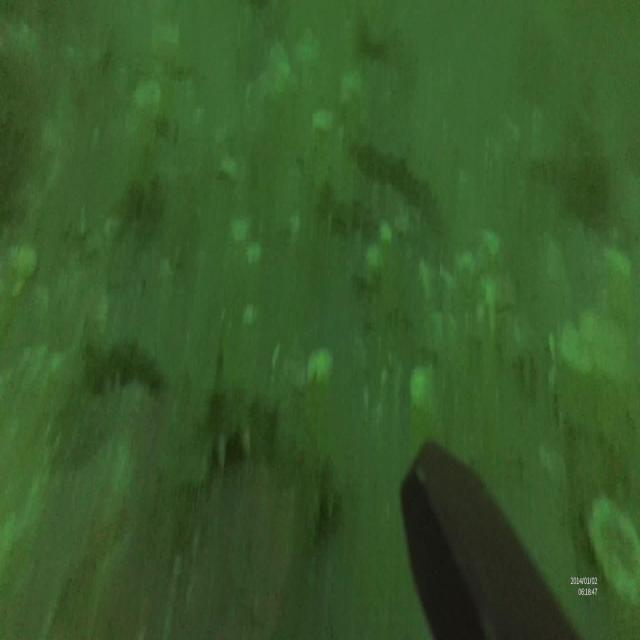holothurian: (194, 349, 342, 530), (81, 330, 168, 401)
